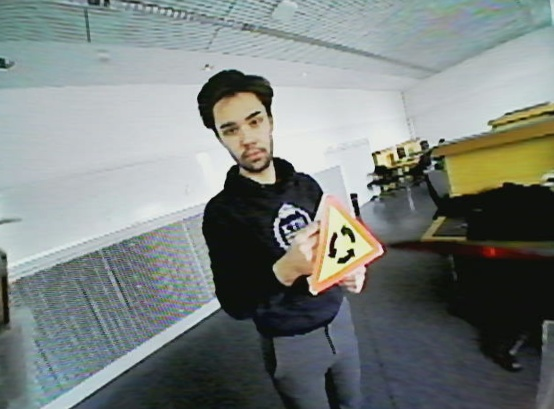roundabout_warning: (308, 194, 385, 294)
